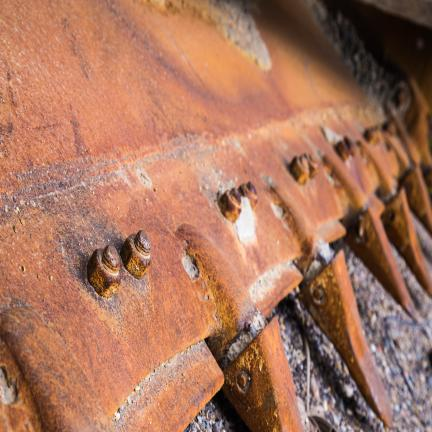karat: (0, 0, 431, 430), (351, 189, 431, 317)
